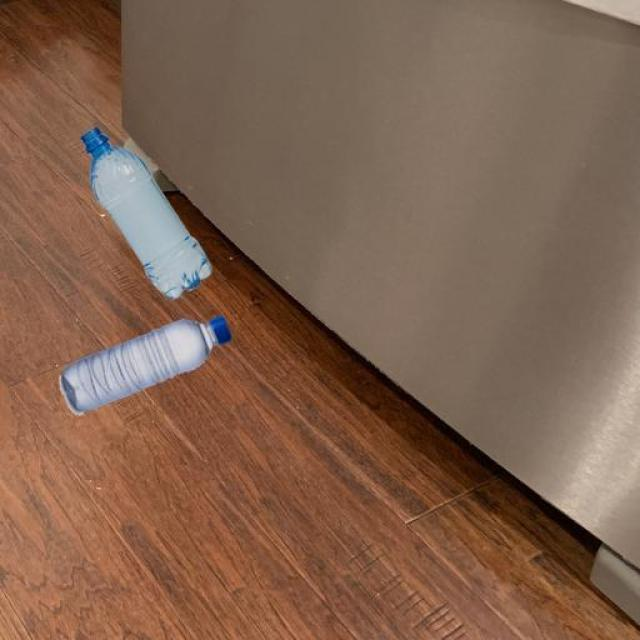bottle: (58, 117, 220, 300), (54, 310, 235, 418)
